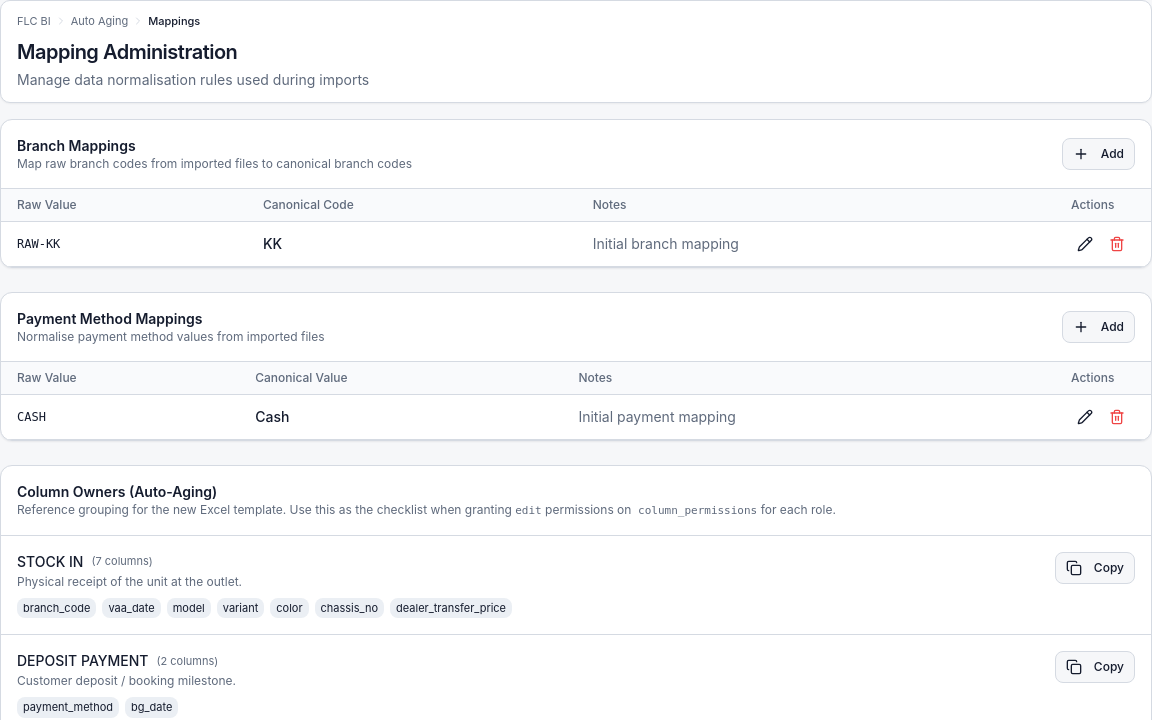
MappingAdmin › updates a payment mapping and persists the edited values
This screenshot has width=1152, height=720.
Expected: the text "CASH" is shown, [1,394,239,439]
Click the button named "Edit mapping CASH".
click(1085, 416)  # box [1071,402,1099,430]
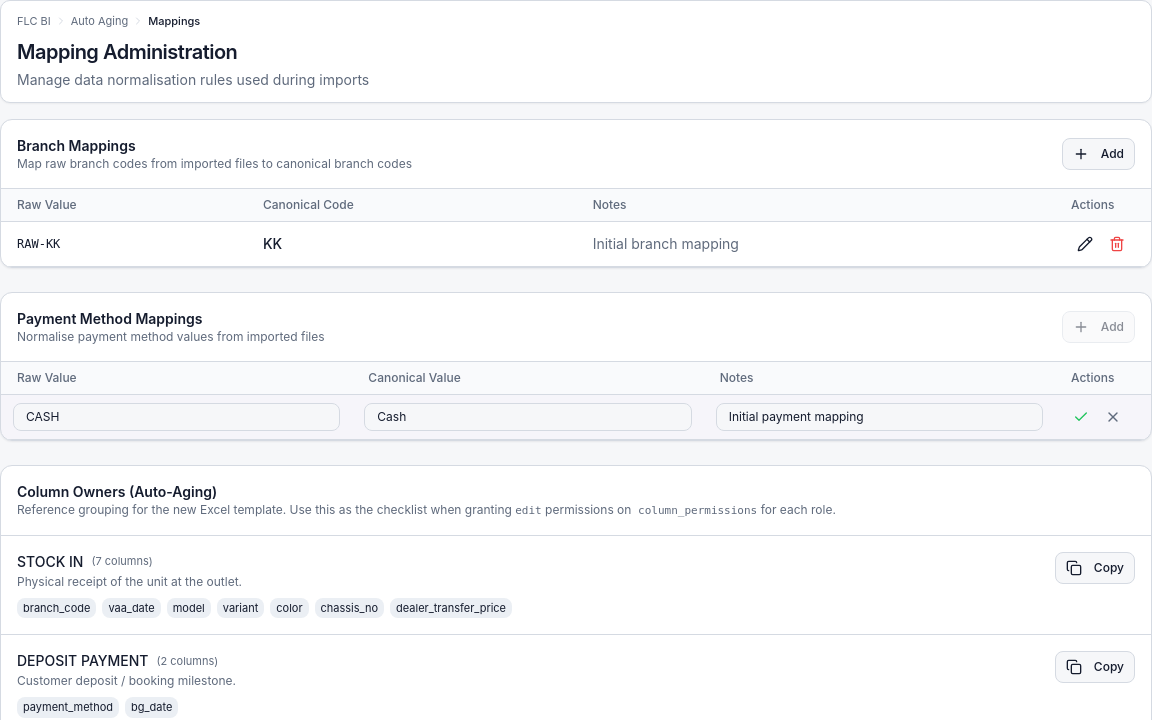
Replace the text in the 2nd field with "Retail Cash" at (528, 416), box [364,402,692,430]
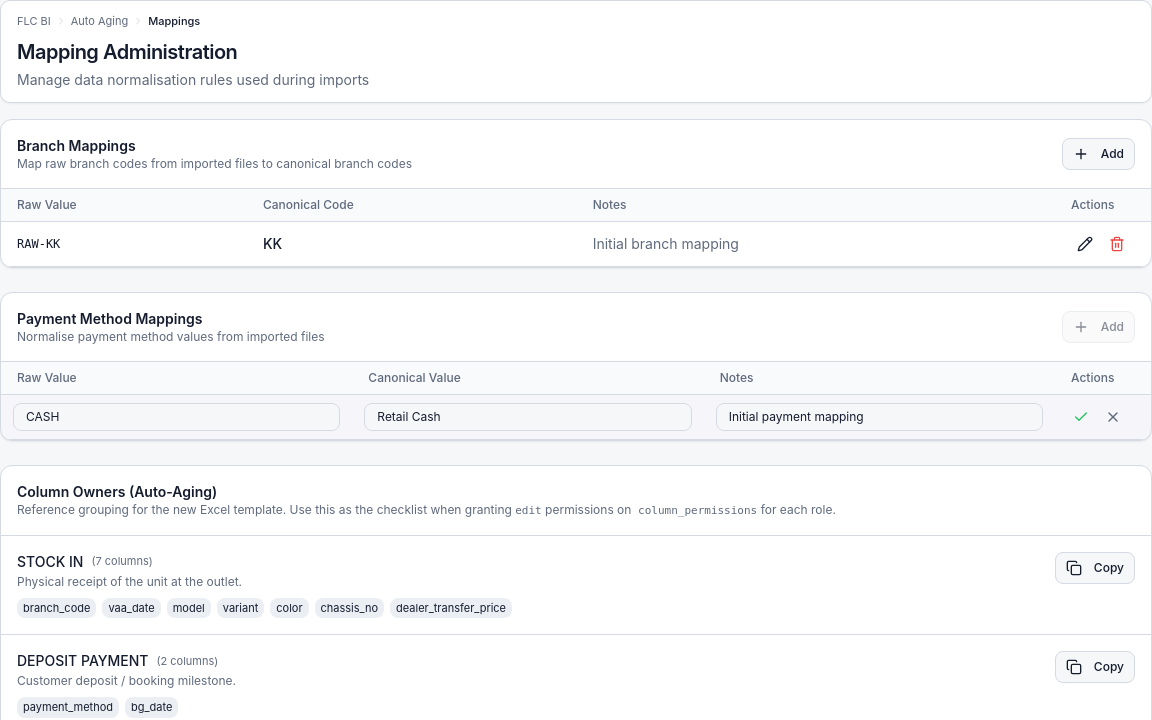
Replace the text in the 3rd field with "Updated payment mapping" at (879, 416), box [716,402,1043,430]
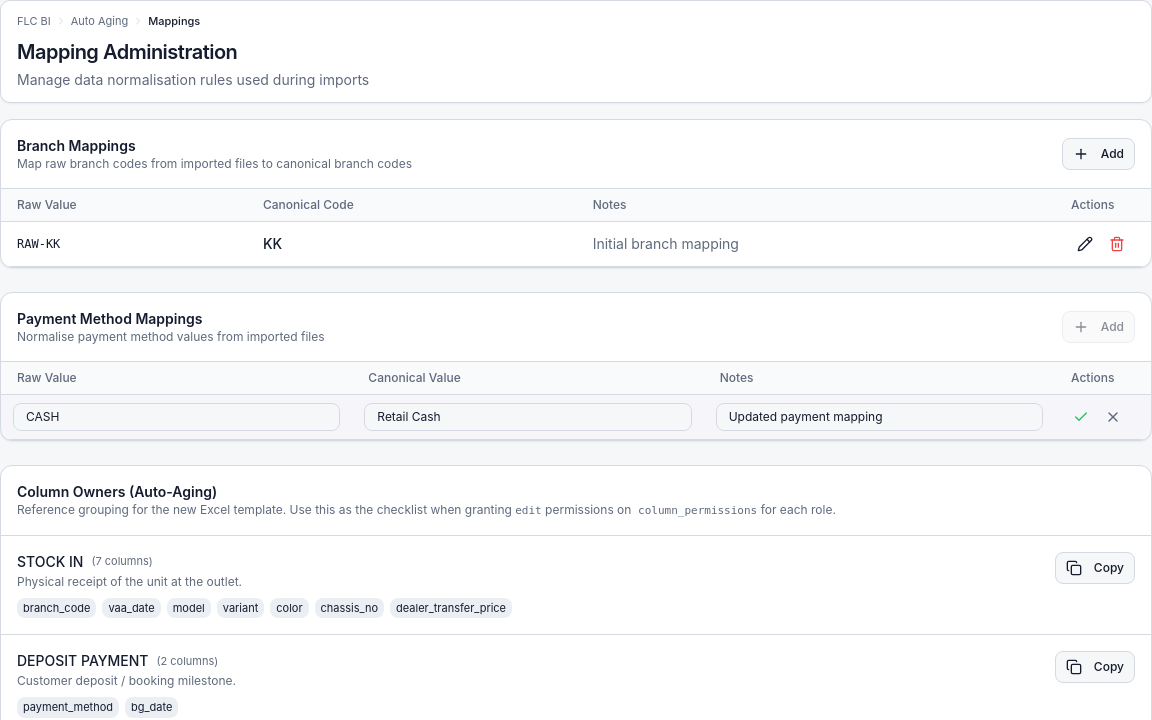
Click the button named "Save mapping".
click(1081, 416)  # box [1067,402,1095,430]
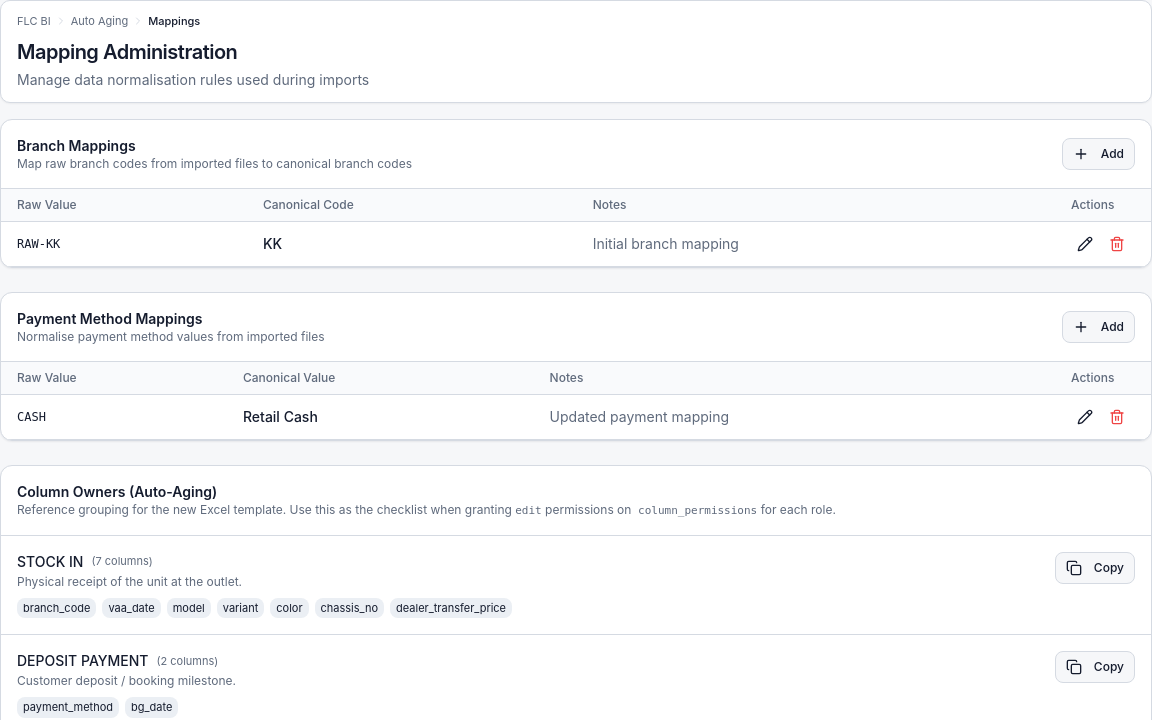
Now the text "Retail Cash" is shown, box [227,394,534,439]
